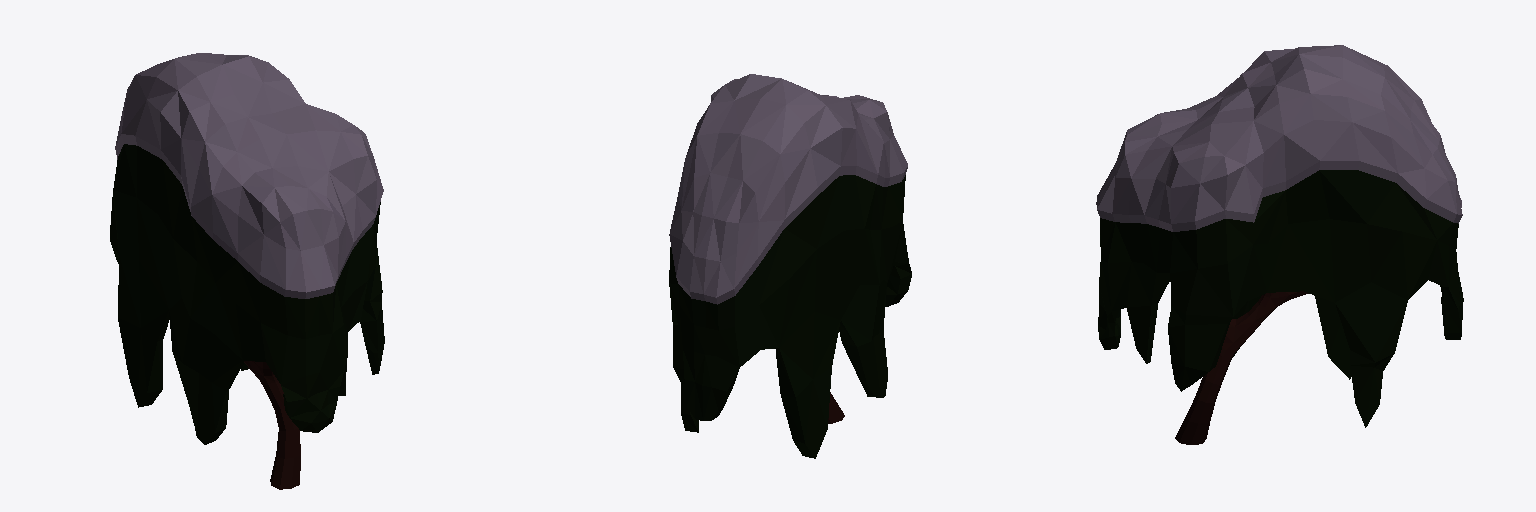
Rendered from Willow_Snow_1.obj.
3 renders of one model, left to right at view 1: azimuth 30°, elevation 25°; view 2: azimuth 150°, elevation 25°; view 3: azimuth 270°, elevation 25°, orthographic.
Parts seen in each view (by area): view 1: Willow_Snow_1_Cube.145; view 2: Willow_Snow_1_Cube.145; view 3: Willow_Snow_1_Cube.145.
Part boxes in pixels (x1,y1,x2,y2): Willow_Snow_1_Cube.145: (110,53,384,489); Willow_Snow_1_Cube.145: (669,74,911,458); Willow_Snow_1_Cube.145: (1096,45,1463,444).
Size of the model in its own units: 1.45 by 2.93 by 2.57.